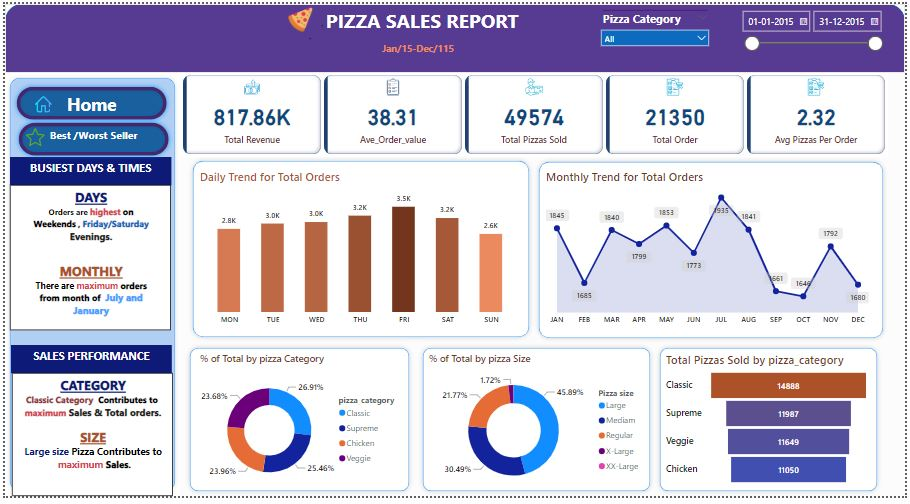

This screenshot's page, from the dashboard's own definition file:
{"tool":"powerbi","page":{"name":"Home","canvas":[1500,820],"ordinal":1},"visuals":[{"type":"cardVisual","fields":{"Data":["pizza_sales.Total Revenue","pizza_sales.Ave_Order_value","pizza_sales.Total Pizzas Sold","pizza_sales.Total Order","pizza_sales.Avg Pizzas Per Order"]},"box":[292,114,1180,142],"z":0},{"type":"shape","box":[0,0,1500,115],"z":1000},{"type":"textbox","box":[491.7,0,389.6,93.8],"z":2000},{"type":"textbox","box":[606.2,58.3,162.5,43.8],"z":3000},{"type":"image","box":[437.5,0,108.3,52.1],"z":4000},{"type":"shape","box":[305,253.3,576.7,310],"z":5000},{"type":"clusteredColumnChart","title":"Daily Trend for Total Orders","fields":{"Y":["pizza_sales.Total Order"],"Category":["pizza_sales.Day Name PQ11"]},"box":[320,275,545,268.3],"z":6000},{"type":"shape","box":[881.7,255,590,310],"z":7000},{"type":"areaChart","title":"Monthly Trend for Total Orders","fields":{"Category":["pizza_sales.Month_name"],"Y":["pizza_sales.Total Order"]},"box":[896.7,275,548.3,268.3],"z":8000},{"type":"shape","box":[1083.3,565,378.3,255],"z":9000},{"type":"shape","box":[688.3,565,395,255],"z":10000},{"type":"shape","box":[300,565,381.7,255],"z":11000},{"type":"donutChart","title":"% of Total by pizza Category","fields":{"Category":["pizza_sales.pizza_category"],"Y":["pizza_sales.Total Revenue"]},"box":[320,580,350,240],"z":12000},{"type":"donutChart","title":"% of Total by pizza Size","fields":{"Y":["pizza_sales.Total Revenue"],"Series":["pizza_sales.Pizza size"]},"box":[701.7,580,370,240],"z":13000},{"type":"funnel","fields":{"Category":["pizza_sales.pizza_category"],"Y":["pizza_sales.Total Pizzas Sold"]},"box":[1096.7,580,348.3,226.7],"z":14000},{"type":"shape","box":[0,115,291.7,705],"z":15000},{"type":"textbox","box":[8,255,269,46.7],"z":16000},{"type":"textbox","box":[8.3,301.7,268.3,241.7],"z":17000},{"type":"textbox","box":[10,568.3,268.3,46.7],"z":18000},{"type":"textbox","box":[11.7,615,268.3,205],"z":19000},{"type":"slicer","fields":{"Values":["pizza_sales.pizza_category"]},"box":[983.3,5,200,110],"z":20000},{"type":"slicer","fields":{"Values":["pizza_sales.order_date"]},"box":[1216.7,1.7,255,91.7],"z":21000},{"type":"actionButton","box":[11.5,129.6,265.7,70.5],"z":21001},{"type":"image","box":[0,147.6,127.9,37.7],"z":21002},{"type":"actionButton","box":[14.8,190.2,265.7,70.5],"z":21003},{"type":"image","box":[29.5,198.4,41,47.6],"z":21004}]}

Visuals, with their boxes in screenshot pixels (x1, y1, x2, y2), scaled from the page's 1500x820 canvas onto the 910x504 screenshot:
cardVisual - pizza_sales.Total Revenue x pizza_sales.Ave_Order_value: locate(177, 70, 893, 157)
shape: locate(0, 0, 909, 71)
textbox: locate(298, 0, 535, 58)
textbox: locate(368, 36, 466, 63)
image: locate(265, 0, 331, 32)
shape: locate(185, 156, 535, 346)
"Daily Trend for Total Orders" clusteredColumnChart: locate(194, 169, 525, 334)
shape: locate(535, 157, 893, 347)
"Monthly Trend for Total Orders" areaChart: locate(544, 169, 877, 334)
shape: locate(657, 347, 887, 503)
shape: locate(418, 347, 657, 503)
shape: locate(182, 347, 414, 503)
"% of Total by pizza Category" donutChart: locate(194, 356, 406, 503)
"% of Total by pizza Size" donutChart: locate(426, 356, 650, 503)
funnel - pizza_sales.pizza_category x pizza_sales.Total Pizzas Sold: locate(665, 356, 877, 496)
shape: locate(0, 71, 177, 503)
textbox: locate(5, 157, 168, 185)
textbox: locate(5, 185, 168, 334)
textbox: locate(6, 349, 169, 378)
textbox: locate(7, 378, 170, 503)
slicer - pizza_sales.pizza_category: locate(597, 3, 718, 71)
slicer - pizza_sales.order_date: locate(738, 1, 893, 57)
actionButton: locate(7, 80, 168, 123)
image: locate(0, 91, 78, 114)
actionButton: locate(9, 117, 170, 160)
image: locate(18, 122, 43, 151)
